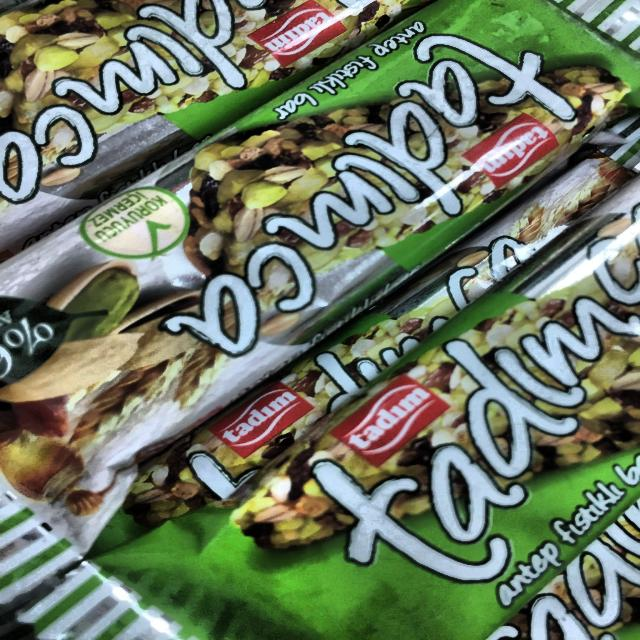Plastic: (0, 4, 640, 593), (70, 172, 640, 640)
